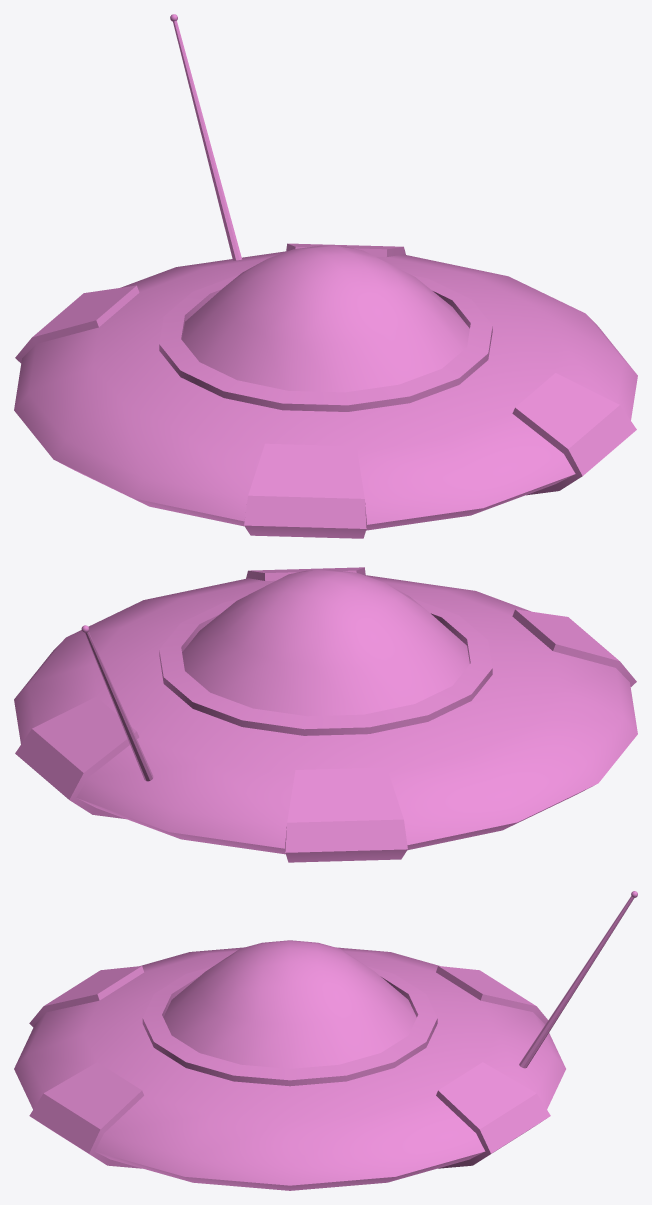
File: Spaceship.fbx
3 views of the same model, one above another, from view 1: azimuth 30°, elevation 25°; view 2: azimuth 150°, elevation 25°; view 3: azimuth 270°, elevation 25° (orthographic). The views are drawn at different scales.
Parts seen in each view (by area): view 1: Good_ship; view 2: Good_ship; view 3: Good_ship.
Boxes of the visible parts, left/top/right/bottom form: Good_ship: left=14, top=14, right=637, bottom=538; Good_ship: left=14, top=567, right=637, bottom=862; Good_ship: left=14, top=891, right=637, bottom=1190.
Bounding box in the file's own units: 3.98 × 2.23 × 4.5.
